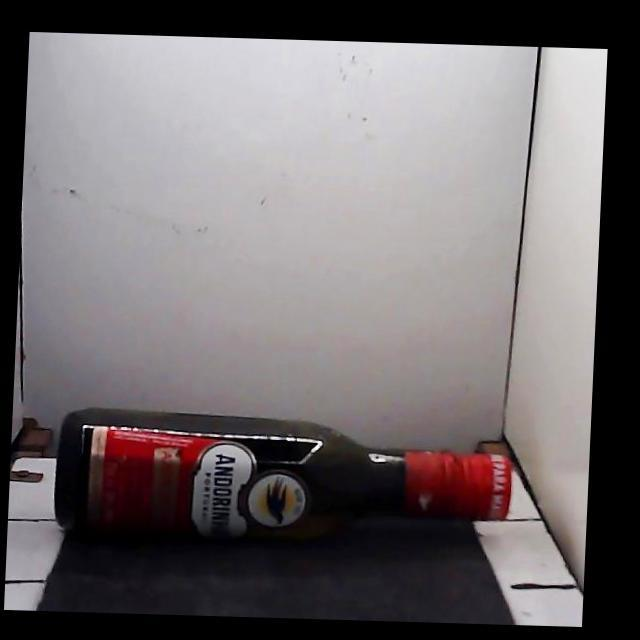vidro: (55, 408, 510, 540)
